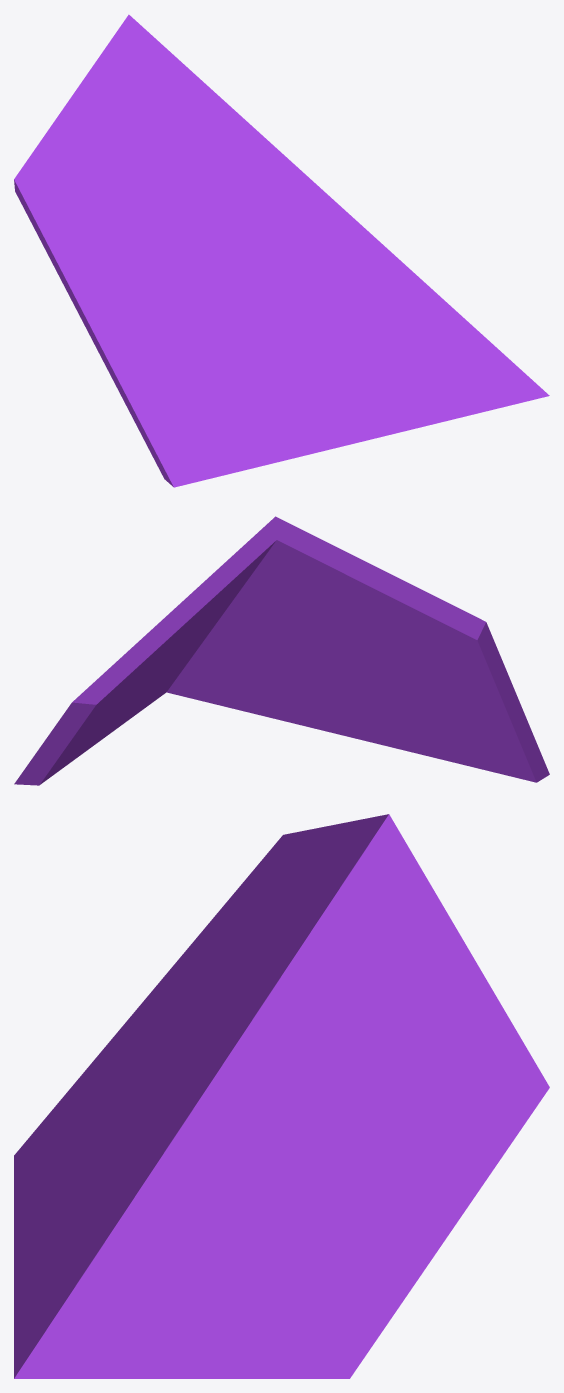
File: Window_26_6_chunks.fbx
The picture shows the model from 3 angles, top to bottom: view 1: azimuth 30°, elevation 25°; view 2: azimuth 150°, elevation 25°; view 3: azimuth 270°, elevation 25°; orthographic projection. The views are drawn at different scales.
Parts seen in each view (by area): view 1: Window_26_6_0, Window_26_6_2, Window_26_6_5, Window_26_6_6, Window_26_6_1, Window_26_6_3; view 2: Window_26_6_0, Window_26_6_2, Window_26_6_5, Window_26_6_6, Window_26_6_1, Window_26_6_4, Window_26_6_3; view 3: Window_26_6_6, Window_26_6_2, Window_26_6_0, Window_26_6_4, Window_26_6_5.
Boxes of the visible parts, x1,y1,x2,y2 form: Window_26_6_0: (31,140,425,487); Window_26_6_2: (14,14,264,232); Window_26_6_5: (336,233,549,420); Window_26_6_6: (264,138,370,233); Window_26_6_1: (349,402,447,444); Window_26_6_3: (293,186,341,255); Window_26_6_0: (245,596,549,782); Window_26_6_2: (60,516,492,724); Window_26_6_5: (140,629,269,713); Window_26_6_6: (41,592,239,747); Window_26_6_1: (253,694,498,773); Window_26_6_4: (14,673,165,785); Window_26_6_3: (220,593,259,656); Window_26_6_6: (173,996,509,1244); Window_26_6_2: (254,814,549,1145); Window_26_6_0: (14,870,265,1288); Window_26_6_4: (96,1232,441,1378); Window_26_6_5: (14,1117,200,1378).
Bounding box in the file's own units: 612 × 459 × 549.
